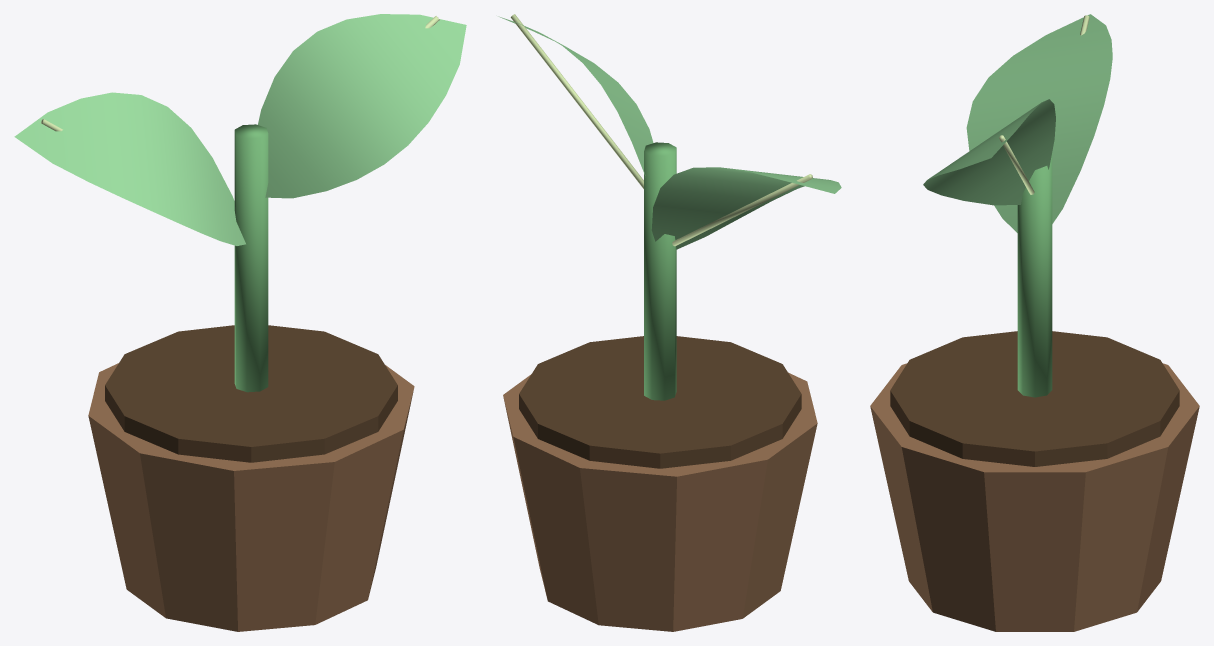
Rendered from plant_starter.glb.
The picture shows the model from 3 angles, left to right: view 1: azimuth 30°, elevation 25°; view 2: azimuth 150°, elevation 25°; view 3: azimuth 270°, elevation 25°; orthographic projection. The views are drawn at different scales.
Visible parts, largest first — view 1: starter_fiber_plug, starter_soil_top, leaf_g000_starter_leaf_right, leaf_g000_starter_leaf_left, starter_stem; view 2: starter_fiber_plug, starter_soil_top, starter_stem, leaf_g000_starter_leaf_left, leaf_g000_starter_leaf_right, vein_g000_starter_leaf_right, vein_g000_starter_leaf_left; view 3: starter_fiber_plug, starter_soil_top, leaf_g000_starter_leaf_left, starter_stem, leaf_g000_starter_leaf_right.
Boxes of the visible parts, x1=… form: starter_fiber_plug: x1=88, y1=363, x2=414, y2=631; starter_soil_top: x1=105, y1=325, x2=397, y2=462; leaf_g000_starter_leaf_right: x1=258, y1=14, x2=466, y2=198; leaf_g000_starter_leaf_left: x1=14, y1=92, x2=245, y2=245; starter_stem: x1=234, y1=124, x2=268, y2=392; starter_fiber_plug: x1=503, y1=372, x2=817, y2=631; starter_soil_top: x1=519, y1=336, x2=801, y2=468; starter_stem: x1=644, y1=142, x2=676, y2=400; leaf_g000_starter_leaf_left: x1=651, y1=167, x2=841, y2=249; leaf_g000_starter_leaf_right: x1=498, y1=16, x2=653, y2=175; vein_g000_starter_leaf_right: x1=510, y1=14, x2=643, y2=188; vein_g000_starter_leaf_left: x1=672, y1=174, x2=812, y2=246; starter_fiber_plug: x1=870, y1=363, x2=1199, y2=631; starter_soil_top: x1=890, y1=331, x2=1179, y2=466; leaf_g000_starter_leaf_left: x1=966, y1=14, x2=1112, y2=232; starter_stem: x1=1017, y1=153, x2=1052, y2=397; leaf_g000_starter_leaf_right: x1=923, y1=99, x2=1055, y2=205.
Bounding box in the file's own units: 0.3203 × 0.4071 × 0.23.
